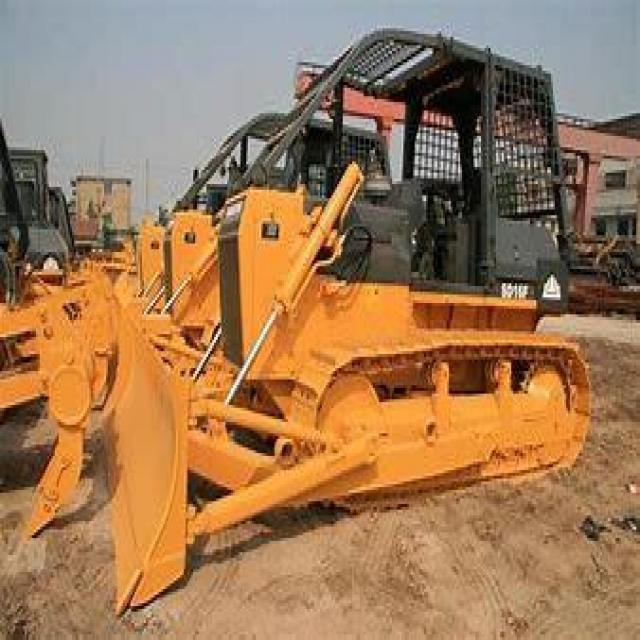Bulldozer: (57, 20, 608, 617)
